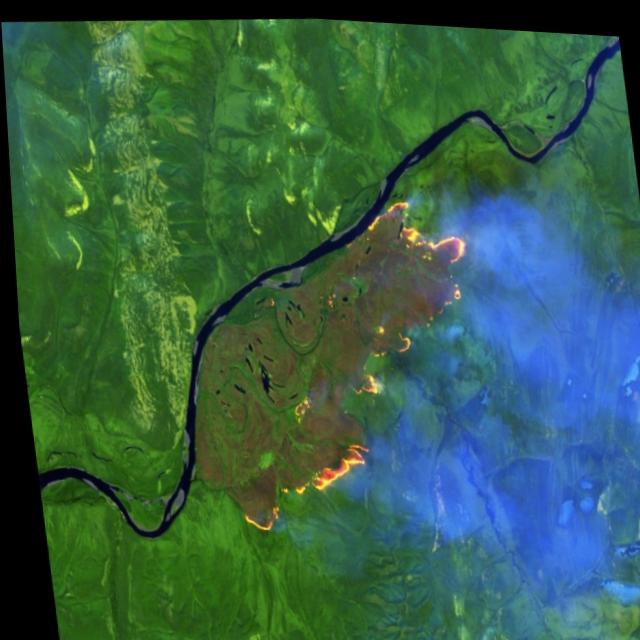fire: (225, 350, 393, 552), (354, 181, 482, 373)
